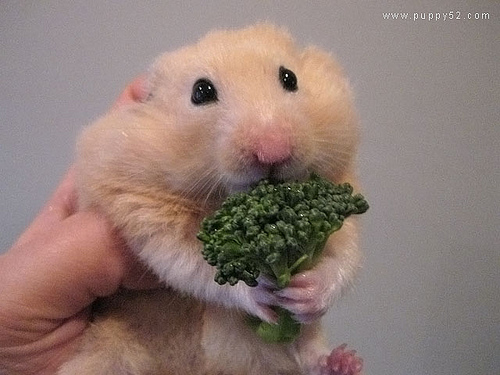broccoli: (194, 177, 368, 345)
